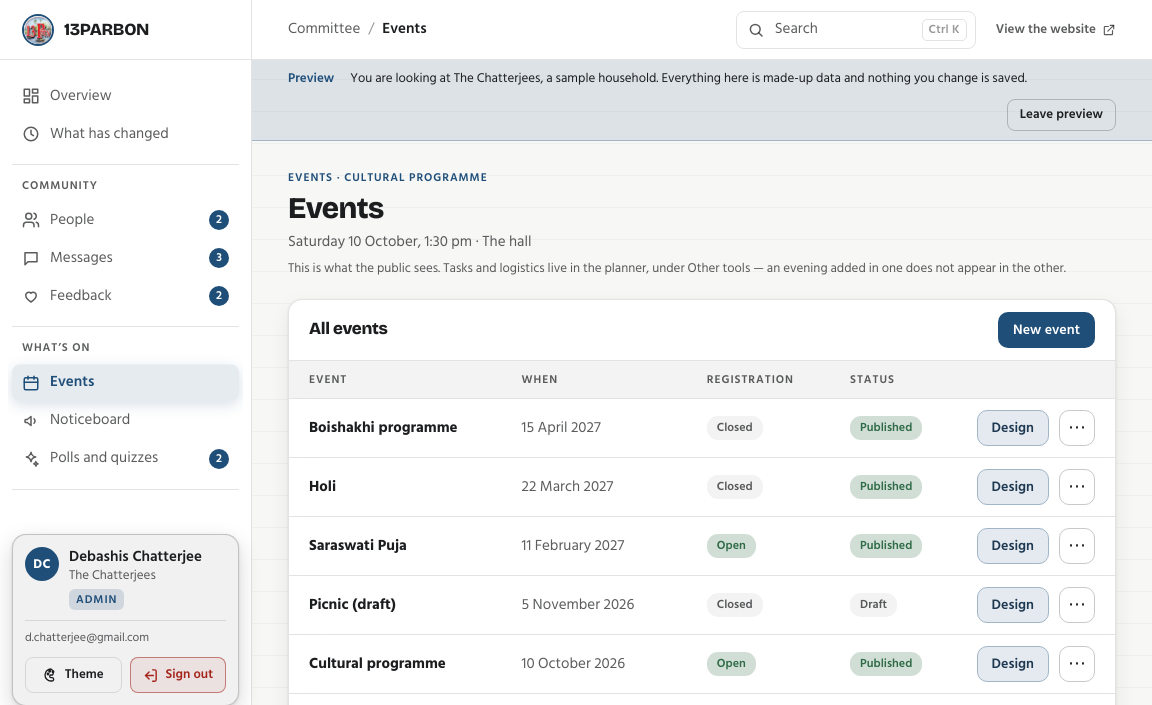
Test: deleting an event › takes it out of the list once confirmed
The width and height of the screenshot is (1152, 705).
Click the button named "More for Picnic (draft)".
click(1077, 605)  # box [1059, 587, 1095, 623]
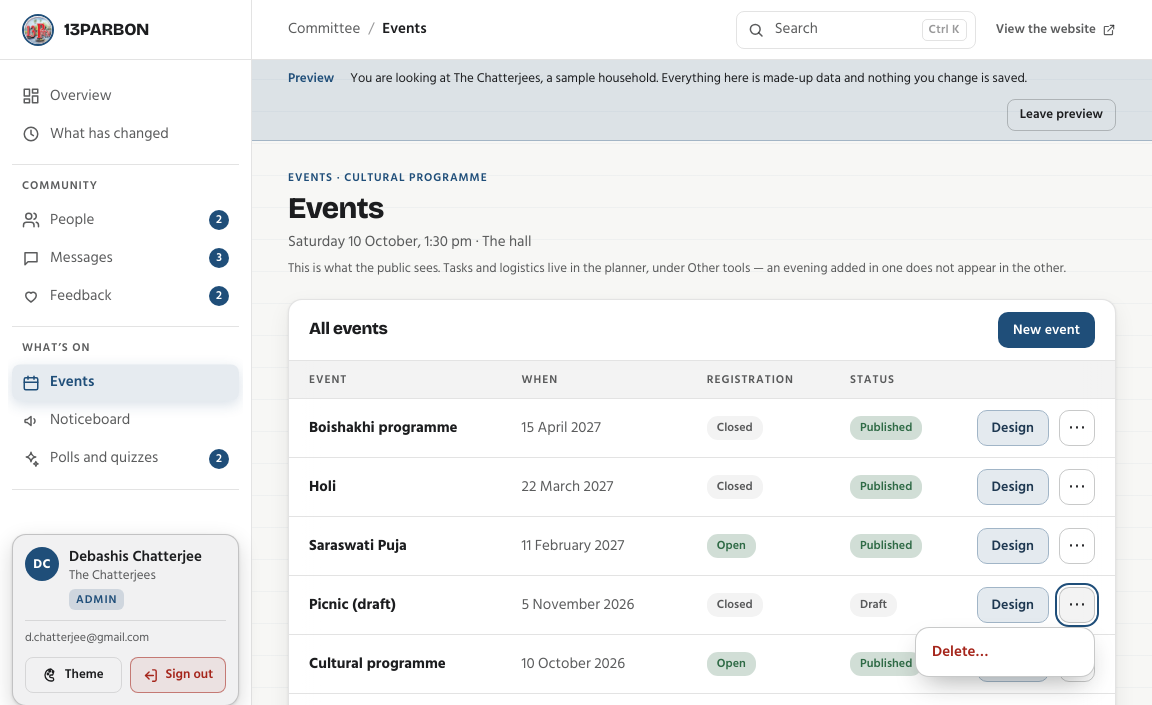
Click the button "Delete…".
click(1005, 652)  # box [920, 632, 1090, 672]
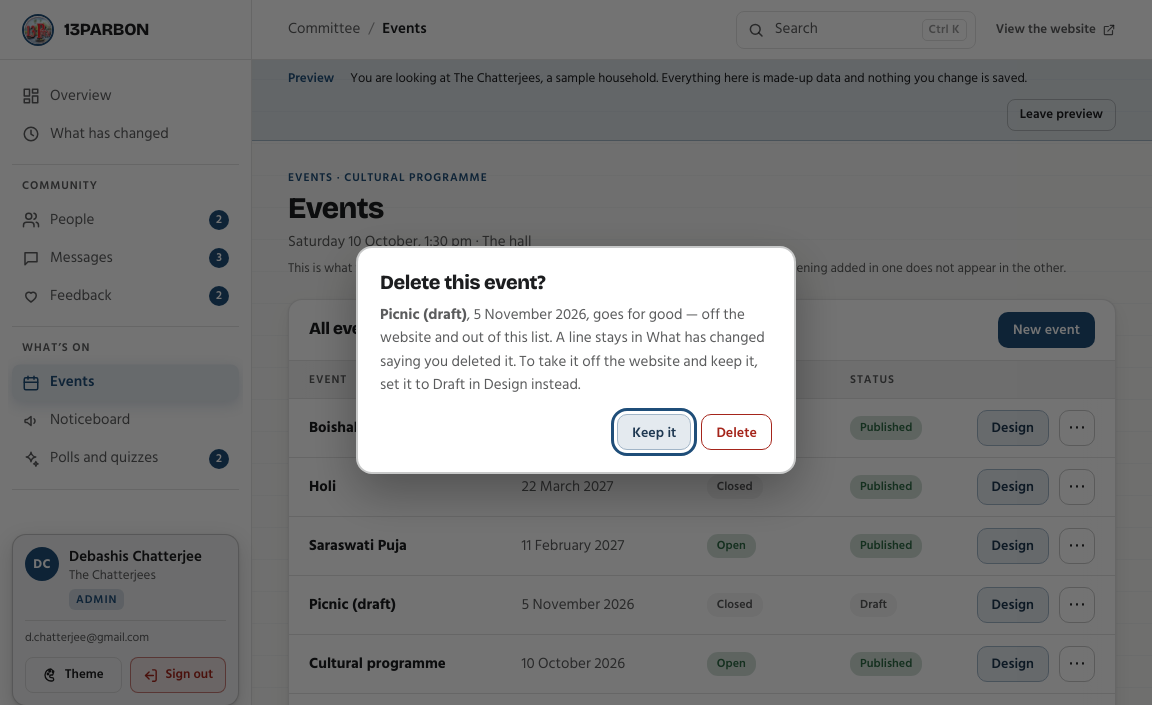
Click the button "Delete".
click(737, 432)  # box [701, 414, 772, 450]
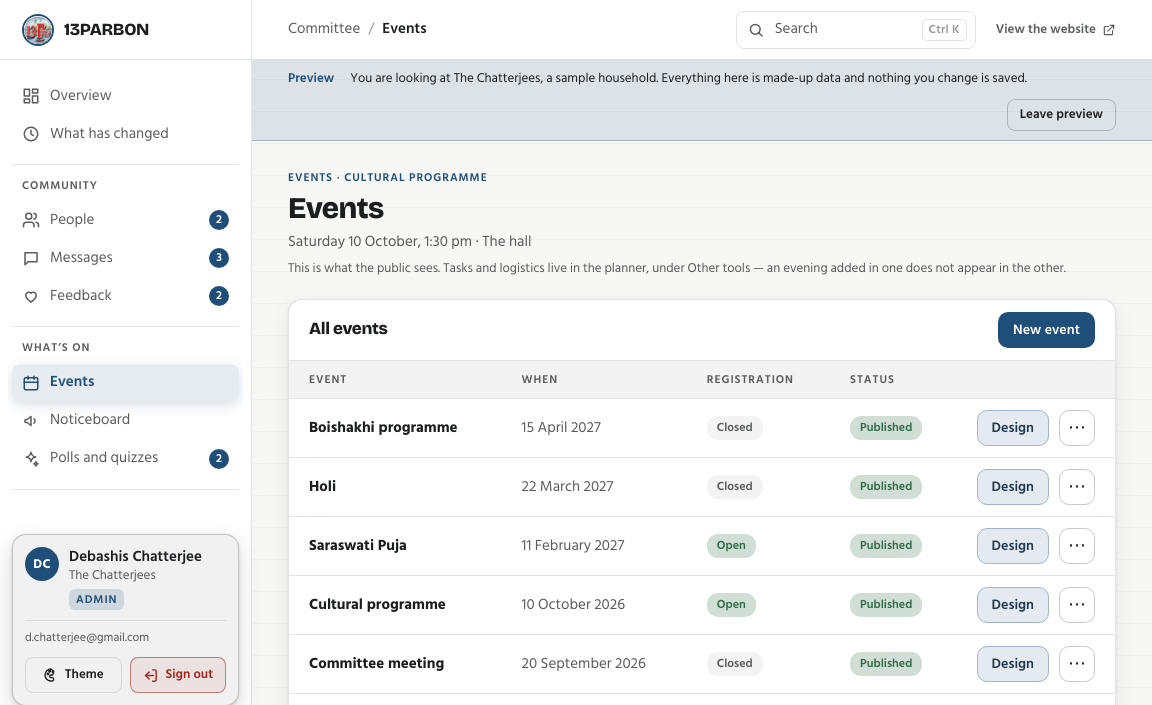
Expected: the text "Picnic (draft)" is gone
Expected: the dialog is gone
